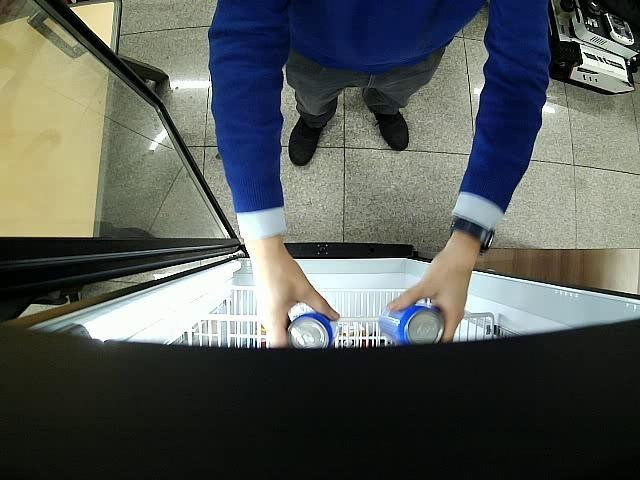13_pocariSweat: (379, 306, 445, 345), (288, 313, 338, 348)
